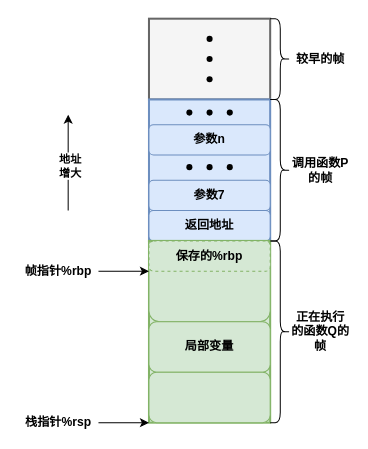
This 368x449 diagram has some shape labels left out. The shapes that lost their labels are listed below. From the top down, each one's box as (x1, y1, x2, y2) in pixels, then its label:
(148, 250, 270, 322): 被保存的寄存器
(148, 371, 270, 423): 参数构造区
